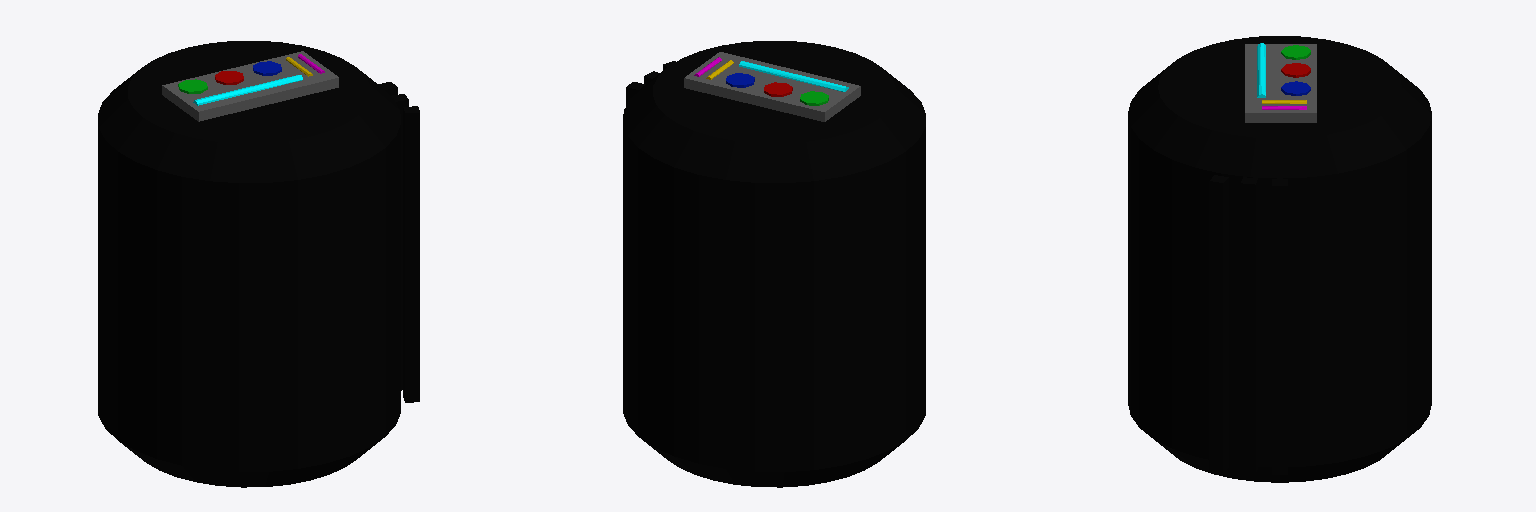
File: SciFiBarrel.obj
The picture shows the model from 3 angles: view 1: azimuth 30°, elevation 25°; view 2: azimuth 150°, elevation 25°; view 3: azimuth 270°, elevation 25°; orthographic projection.
Visible parts, largest first — view 1: Cylinder, Panel, Cube.002, Cube.001; view 2: Cylinder, Panel; view 3: Cylinder, Cube.002, Panel, Cube.001, Cube.
Part boxes in pixels (x1,y1,x2,y2): Cylinder: (98, 41, 400, 487); Panel: (162, 51, 338, 121); Cube.002: (403, 106, 419, 402); Cube.001: (391, 94, 408, 390); Cylinder: (623, 41, 925, 487); Panel: (684, 52, 860, 121); Cylinder: (1128, 36, 1431, 482); Cube.002: (1209, 175, 1228, 472); Panel: (1245, 43, 1316, 122); Cube.001: (1241, 177, 1257, 473); Cube: (1272, 179, 1287, 474).
Size of the model in its own units: 2.1 by 2.6 by 2.